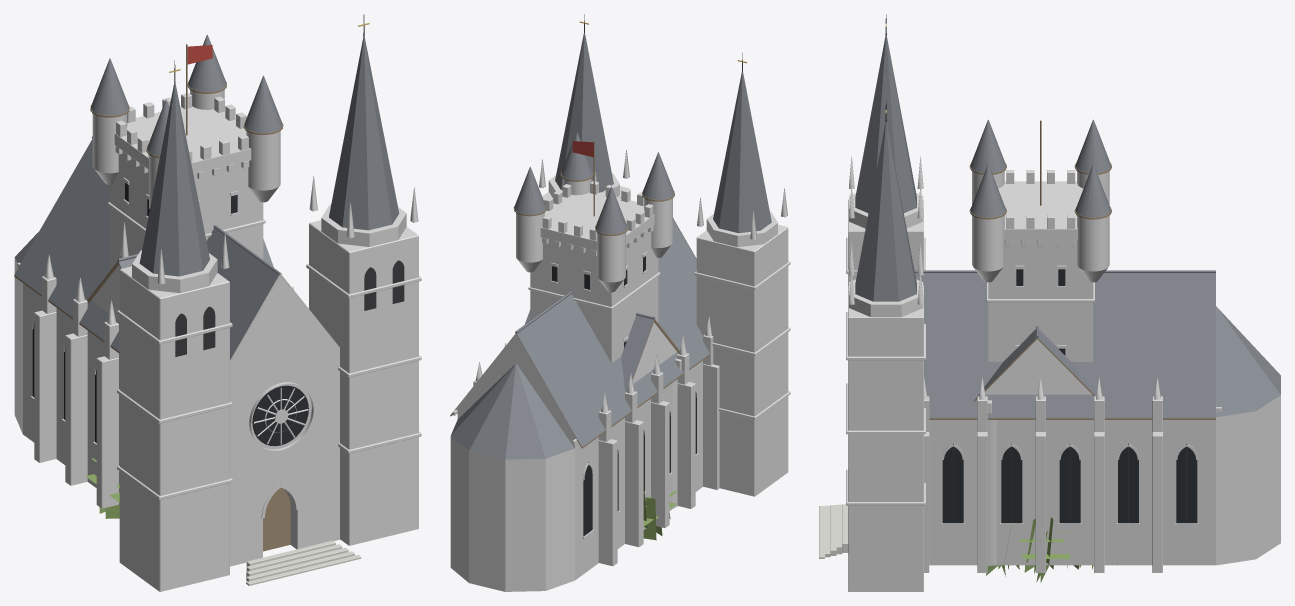
Rendered from thornvale-kit.glb.
3 renders of one model, left to right at view 1: azimuth 30°, elevation 25°; view 2: azimuth 150°, elevation 25°; view 3: azimuth 270°, elevation 25°, orthographic. The views are drawn at different scales.
Visible parts, largest first — view 1: church, keep, gatehouse; view 2: church, keep, gatehouse, tree_pine_1; view 3: church, keep, gatehouse, tree_pine_1.
Part boxes in pixels (left/top/right/bottom): church: left=14, top=14, right=421, bottom=591; keep: left=90, top=34, right=283, bottom=270; gatehouse: left=87, top=239, right=273, bottom=320; church: left=450, top=14, right=790, bottom=591; keep: left=513, top=132, right=674, bottom=363; gatehouse: left=525, top=310, right=681, bottom=508; tree_pine_1: left=643, top=490, right=676, bottom=540; church: left=819, top=14, right=1280, bottom=591; keep: left=969, top=119, right=1111, bottom=361; gatehouse: left=974, top=326, right=1096, bottom=565; tree_pine_1: left=986, top=517, right=1117, bottom=582.
Size of the model in its own units: 24.3 by 46.16 by 39.56.
